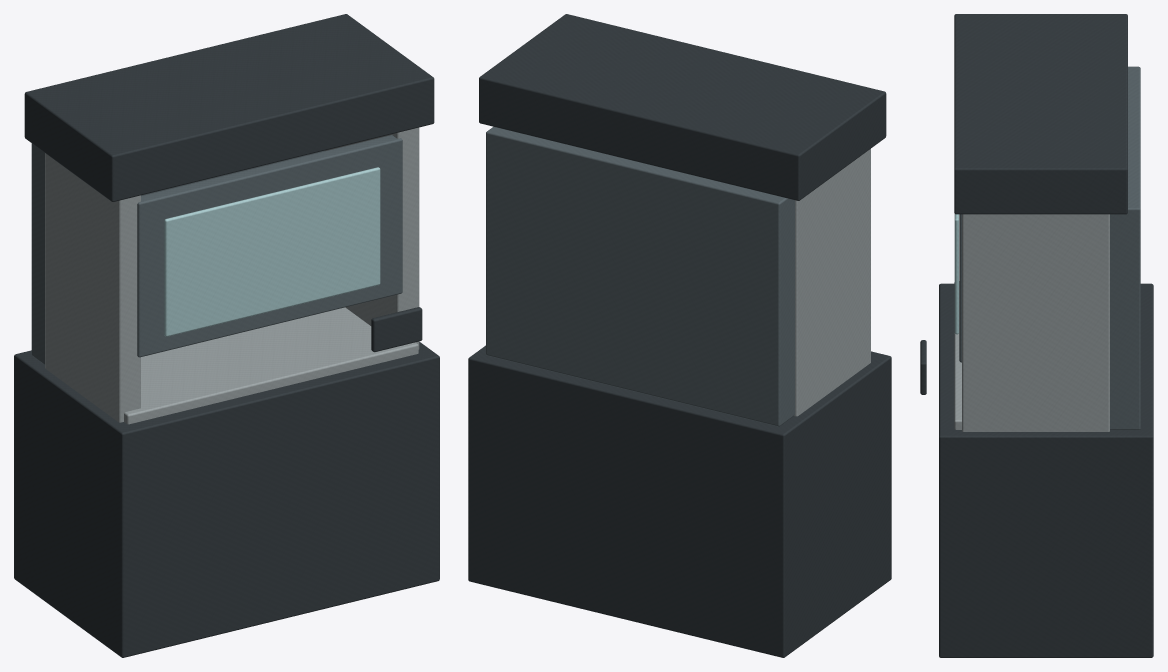
Rendered from LaboratoryFumeHood.fbx.
3 views of the same model, side by side, from view 1: azimuth 30°, elevation 25°; view 2: azimuth 150°, elevation 25°; view 3: azimuth 270°, elevation 25° (orthographic).
Parts seen in each view (by area): view 1: LaboratoryFumeHood_Mesh; view 2: LaboratoryFumeHood_Mesh; view 3: LaboratoryFumeHood_Mesh.
Boxes of the visible parts, <box> form: LaboratoryFumeHood_Mesh: <box>14,14,439,657</box>; LaboratoryFumeHood_Mesh: <box>468,14,891,657</box>; LaboratoryFumeHood_Mesh: <box>920,14,1153,657</box>.
Bounding box in the file's own units: 144 × 212 × 91.25.
4 materials, 4 textured.
